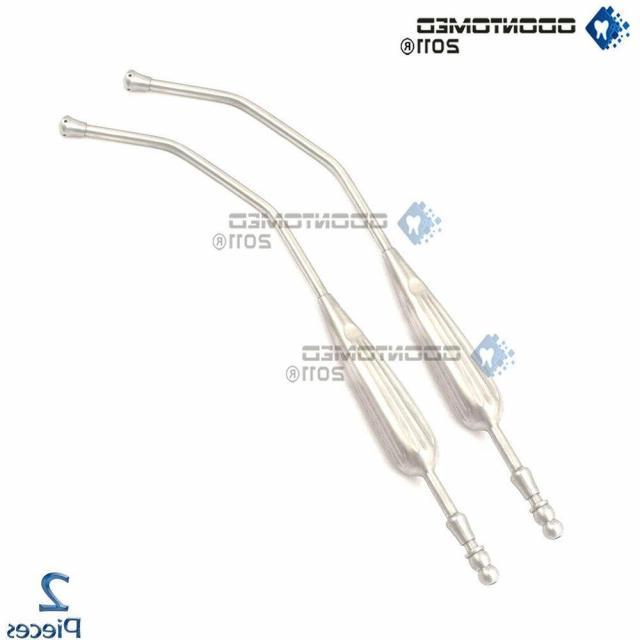Yankauer: (55, 115, 502, 594), (121, 66, 568, 543)
